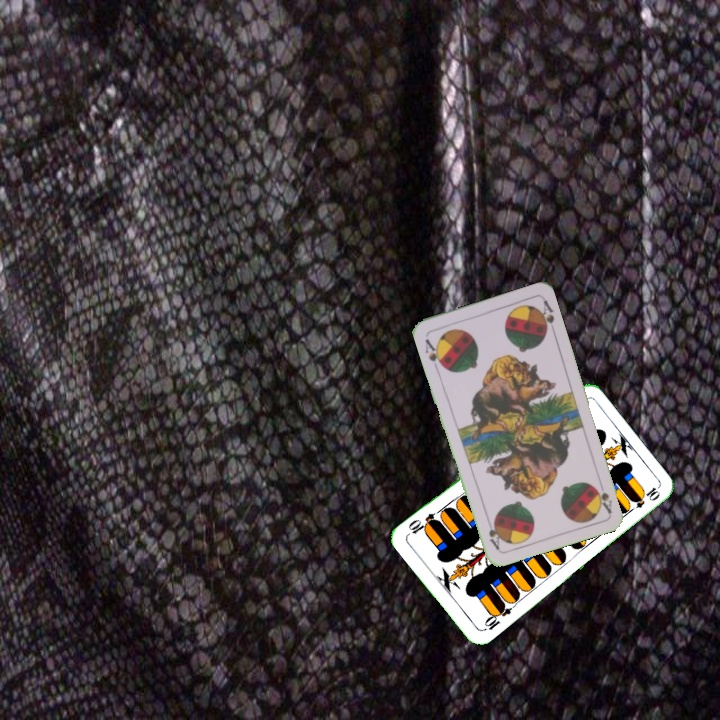E10: (479, 600, 514, 634)
SA: (591, 476, 614, 516), (421, 335, 447, 370)
